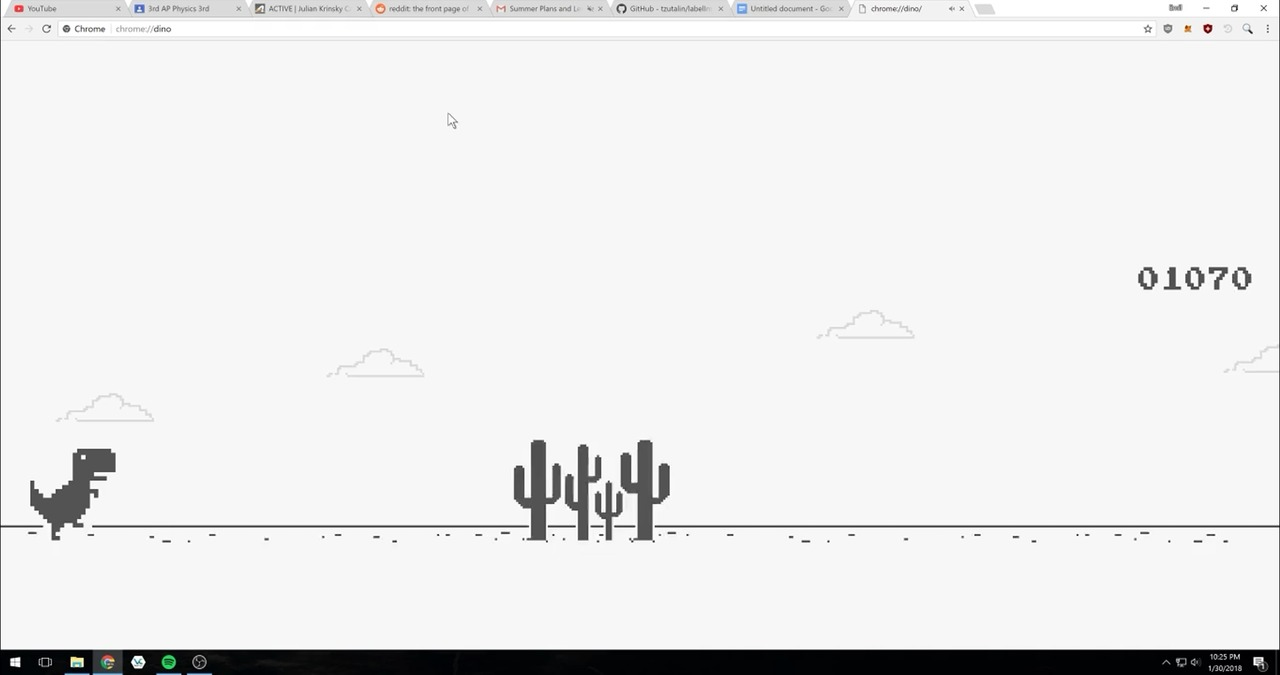cactus: (512, 439, 674, 545)
dinosaur: (30, 445, 118, 541)
